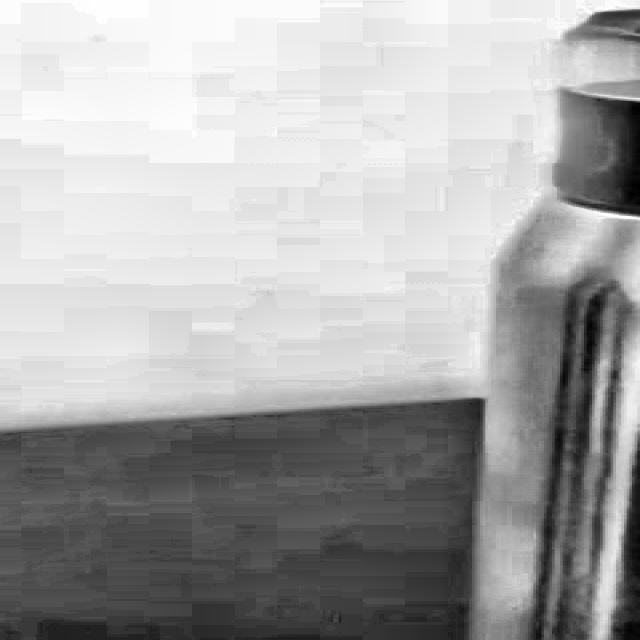bottle: (462, 7, 640, 640)
